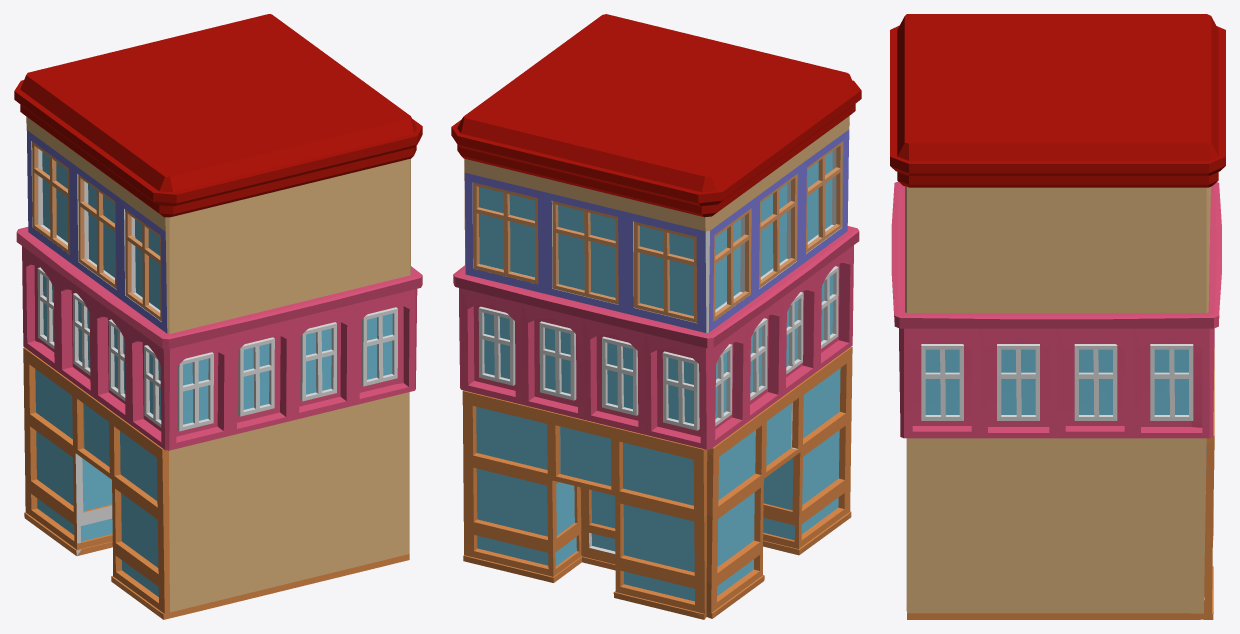
File: Building5.fbx
The picture shows the model from 3 angles, left to right: view 1: azimuth 30°, elevation 25°; view 2: azimuth 150°, elevation 25°; view 3: azimuth 270°, elevation 25°; orthographic projection. The views are drawn at different scales.
Visible parts, largest first — view 1: Building5; view 2: Building5; view 3: Building5.
Boxes of the visible parts, <box> form: Building5: <box>14,14,422,619</box>; Building5: <box>451,14,861,619</box>; Building5: <box>890,14,1225,619</box>.
Size of the model in its own units: 3.96 by 3.95 by 6.2.
